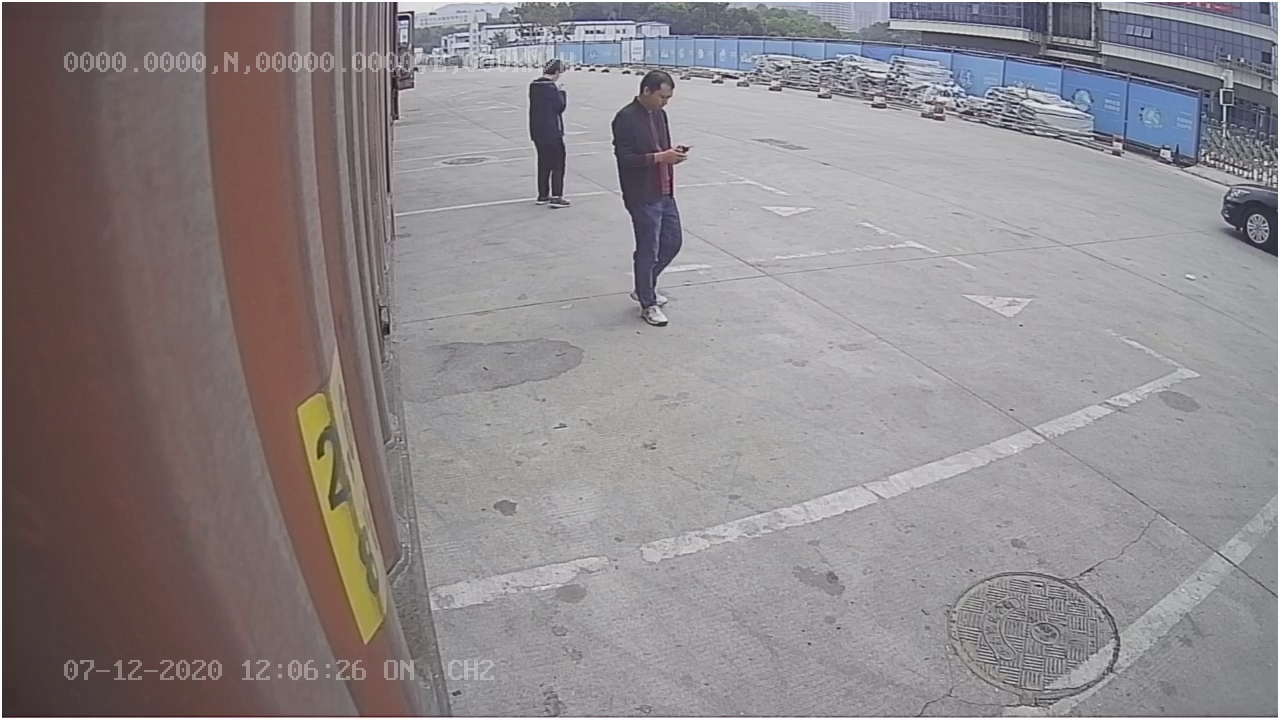person: (609, 63, 685, 325)
